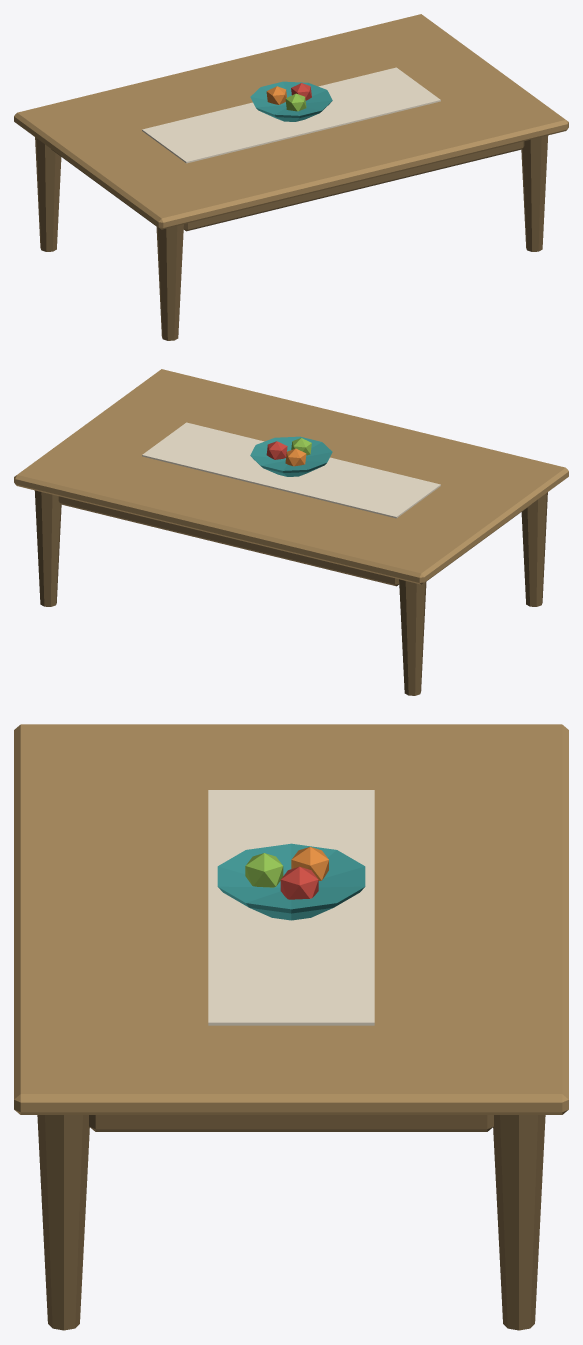
Rendered from dining_table.glb.
The picture shows the model from 3 angles, top to bottom: view 1: azimuth 30°, elevation 25°; view 2: azimuth 150°, elevation 25°; view 3: azimuth 270°, elevation 25°; orthographic projection. The views are drawn at different scales.
Parts seen in each view (by area): view 1: dining_table_Body; view 2: dining_table_Body; view 3: dining_table_Body.
Boxes of the visible parts, left/top/right/bottom form: dining_table_Body: left=14, top=14, right=568, bottom=340; dining_table_Body: left=14, top=369, right=568, bottom=695; dining_table_Body: left=14, top=724, right=568, bottom=1330.
Bounding box in the file's own units: 1.6 × 0.6 × 1.
